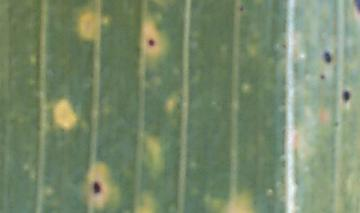tarspot: (323, 51, 332, 65), (353, 1, 360, 17), (342, 90, 350, 102), (94, 181, 101, 194), (147, 38, 155, 47), (332, 120, 340, 129), (280, 42, 288, 50), (240, 4, 245, 12), (320, 73, 325, 81)
